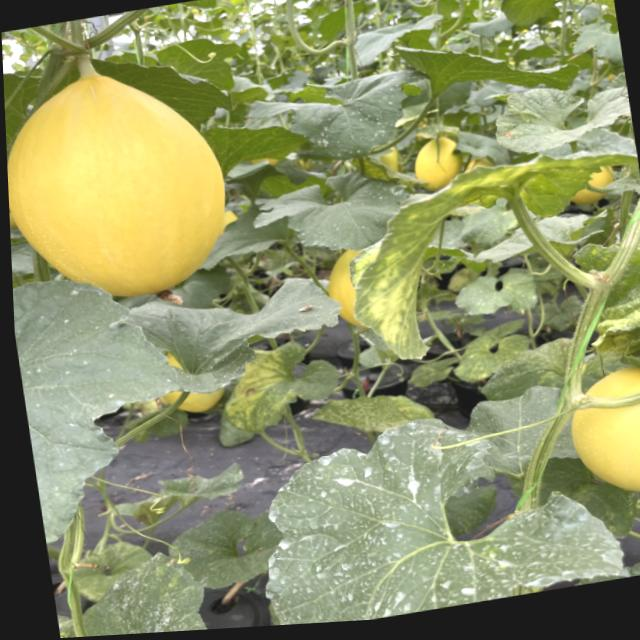downy mildew: (218, 380, 620, 628), (327, 132, 640, 372), (12, 260, 214, 541)
powdery mildew: (49, 537, 265, 639)
